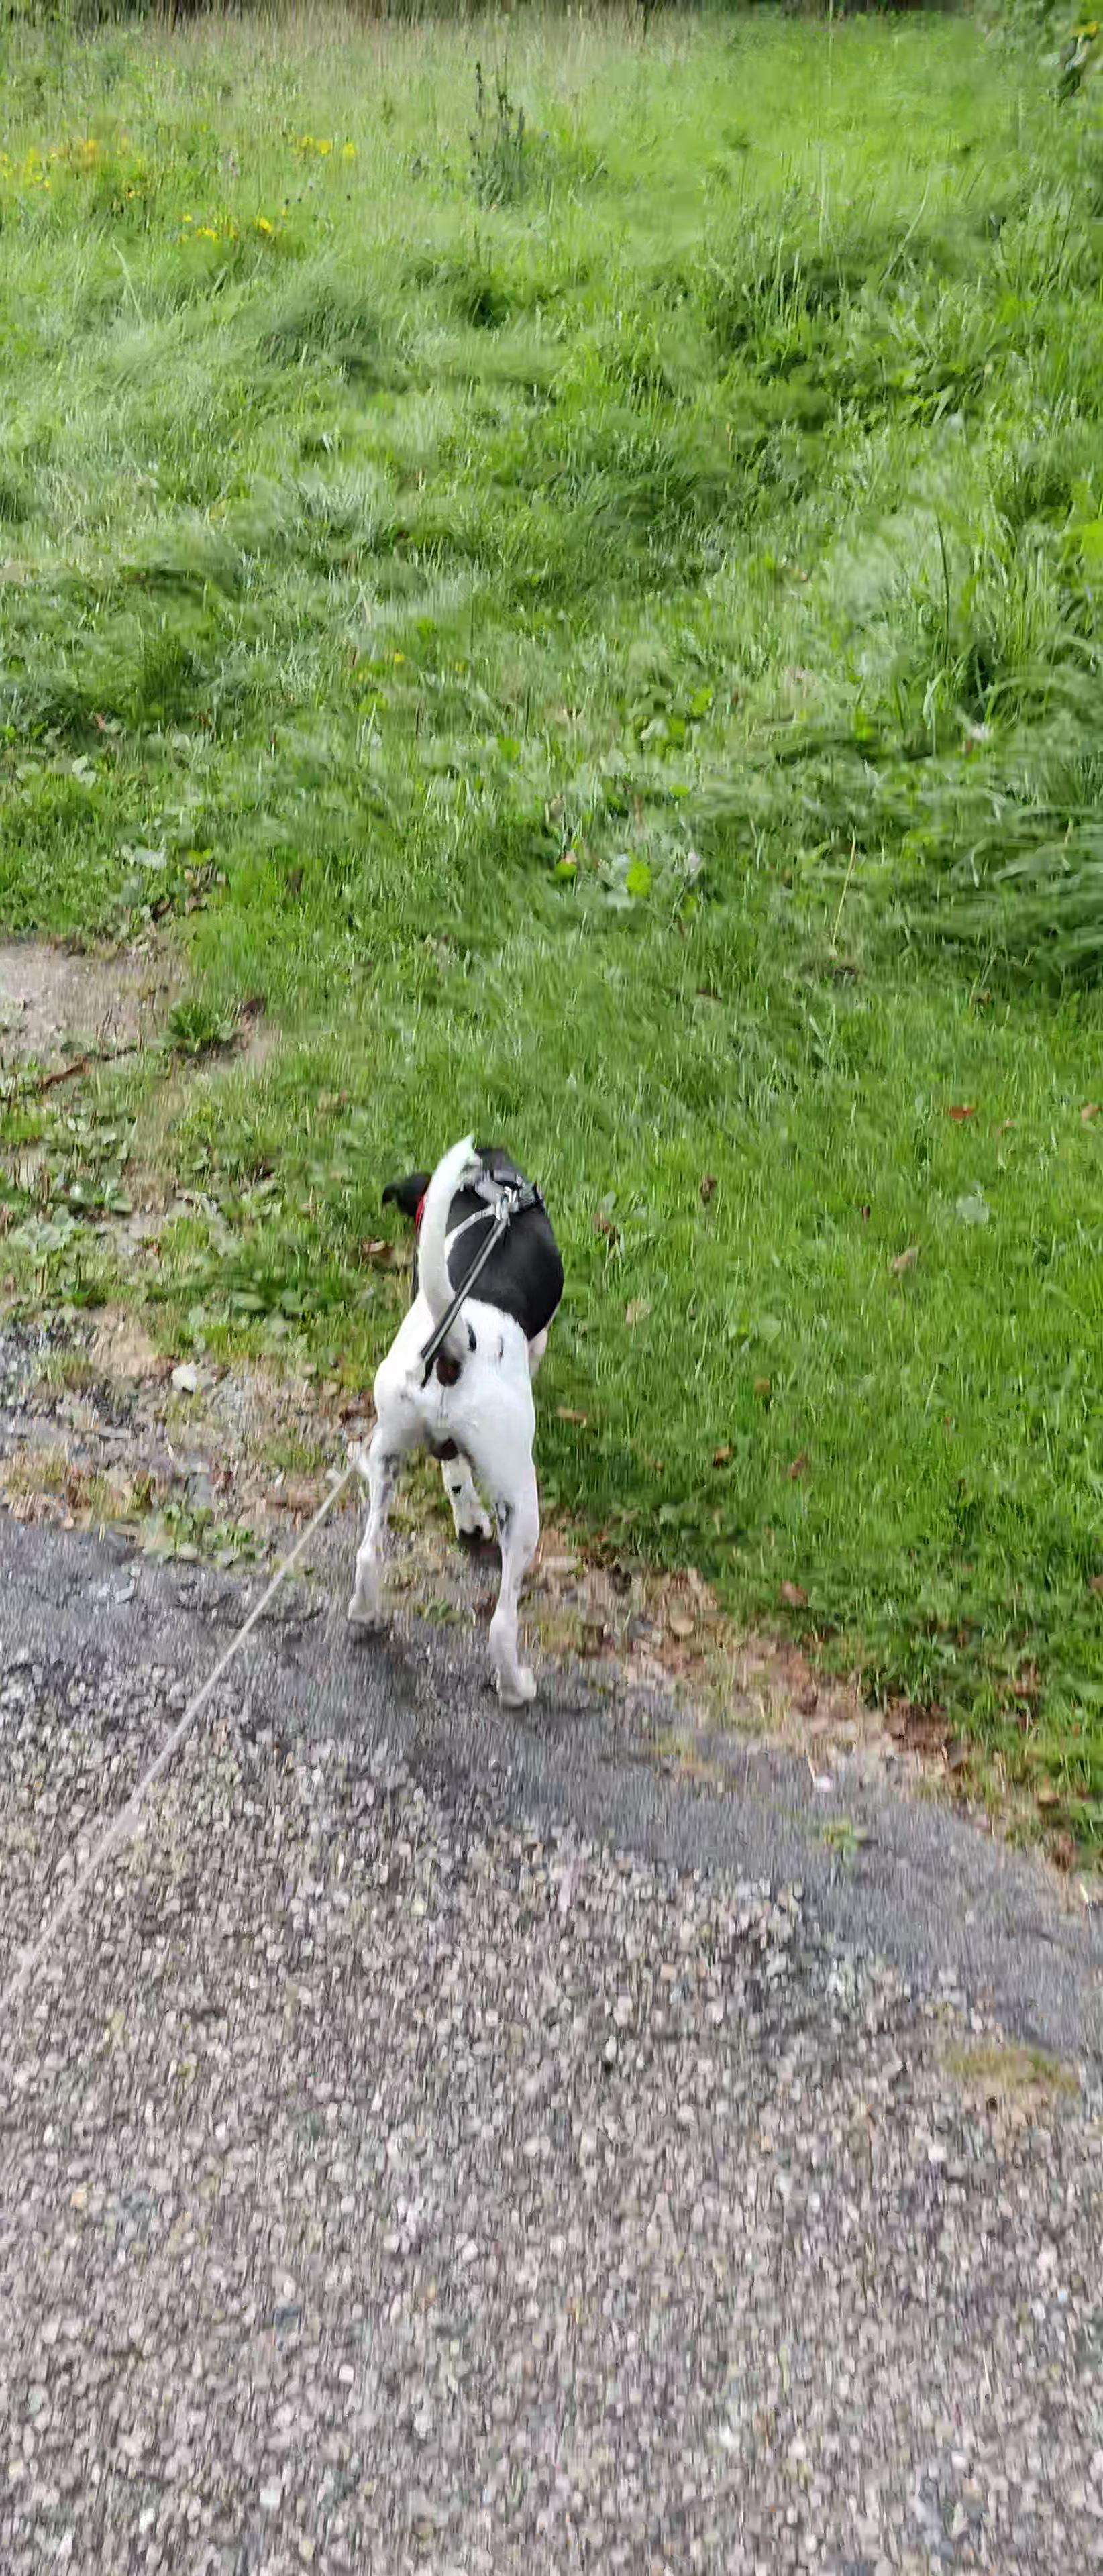Dog: (337, 1125, 574, 1718)
